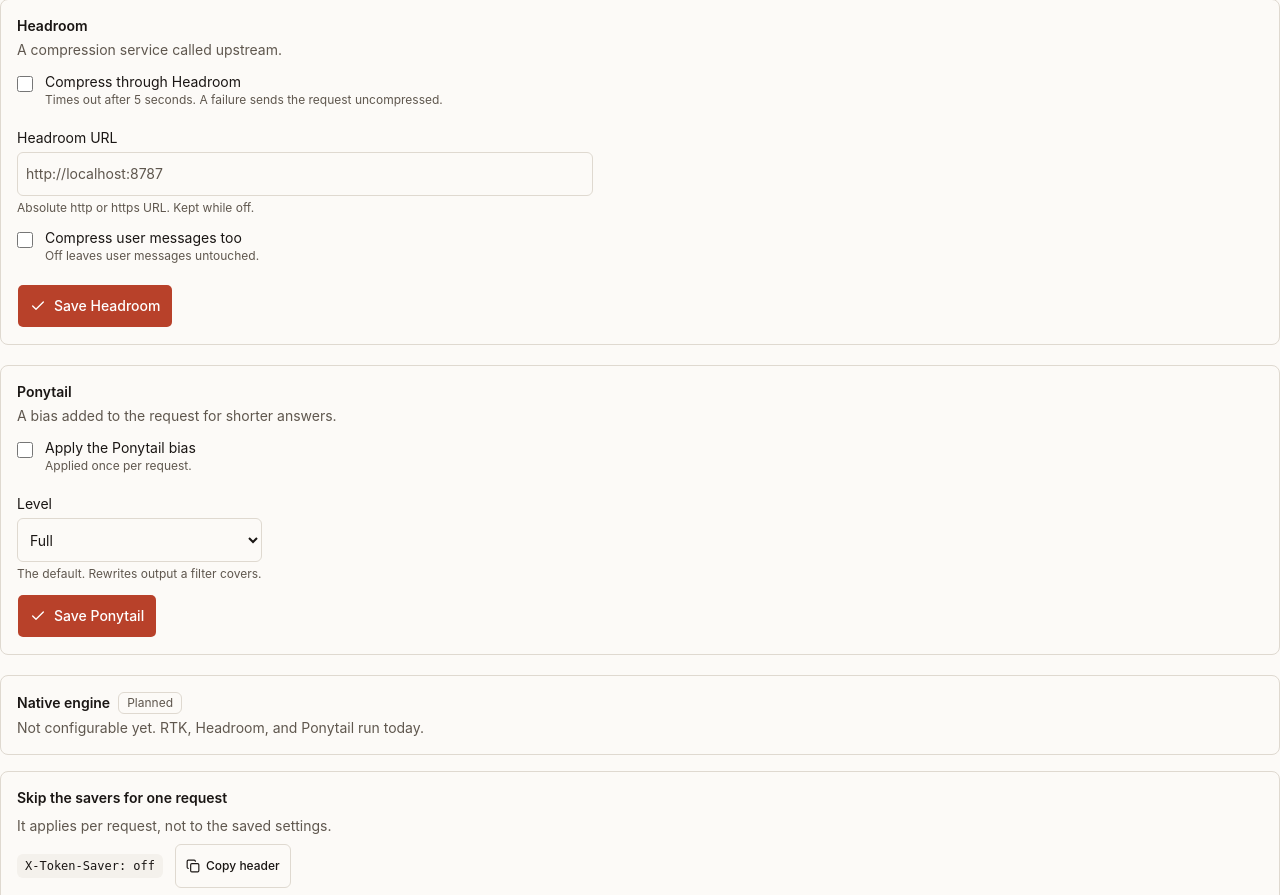
Test: TokenSaverPage editing › reports a failed Ponytail save inside the Ponytail section
The width and height of the screenshot is (1280, 895).
(page scrolled)
Click the checkbox labelled "Apply the Ponytail bias Applied once per request.": (25, 450) x1=17 y1=442 x2=33 y2=458
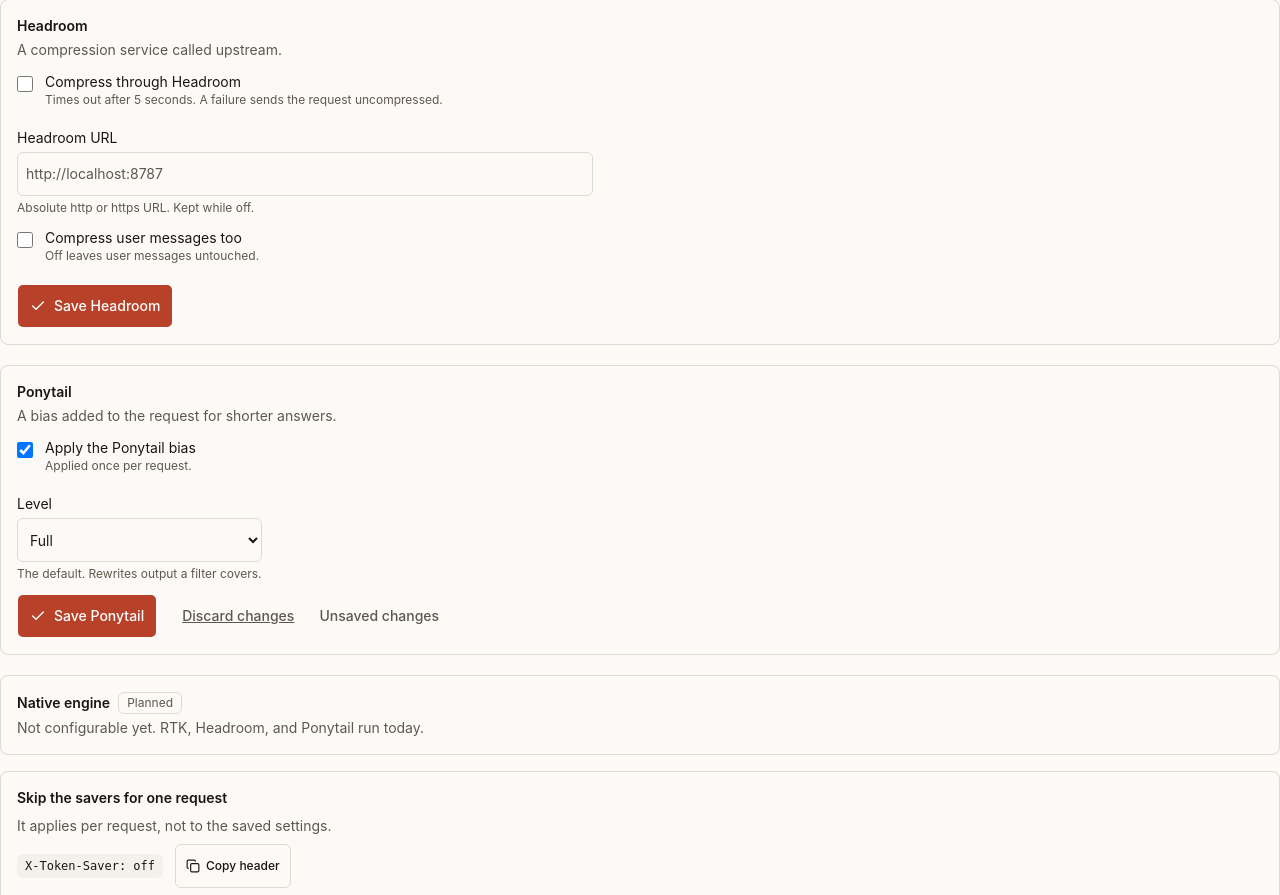
Click the button "Save Ponytail": (87, 616) x1=17 y1=594 x2=157 y2=638
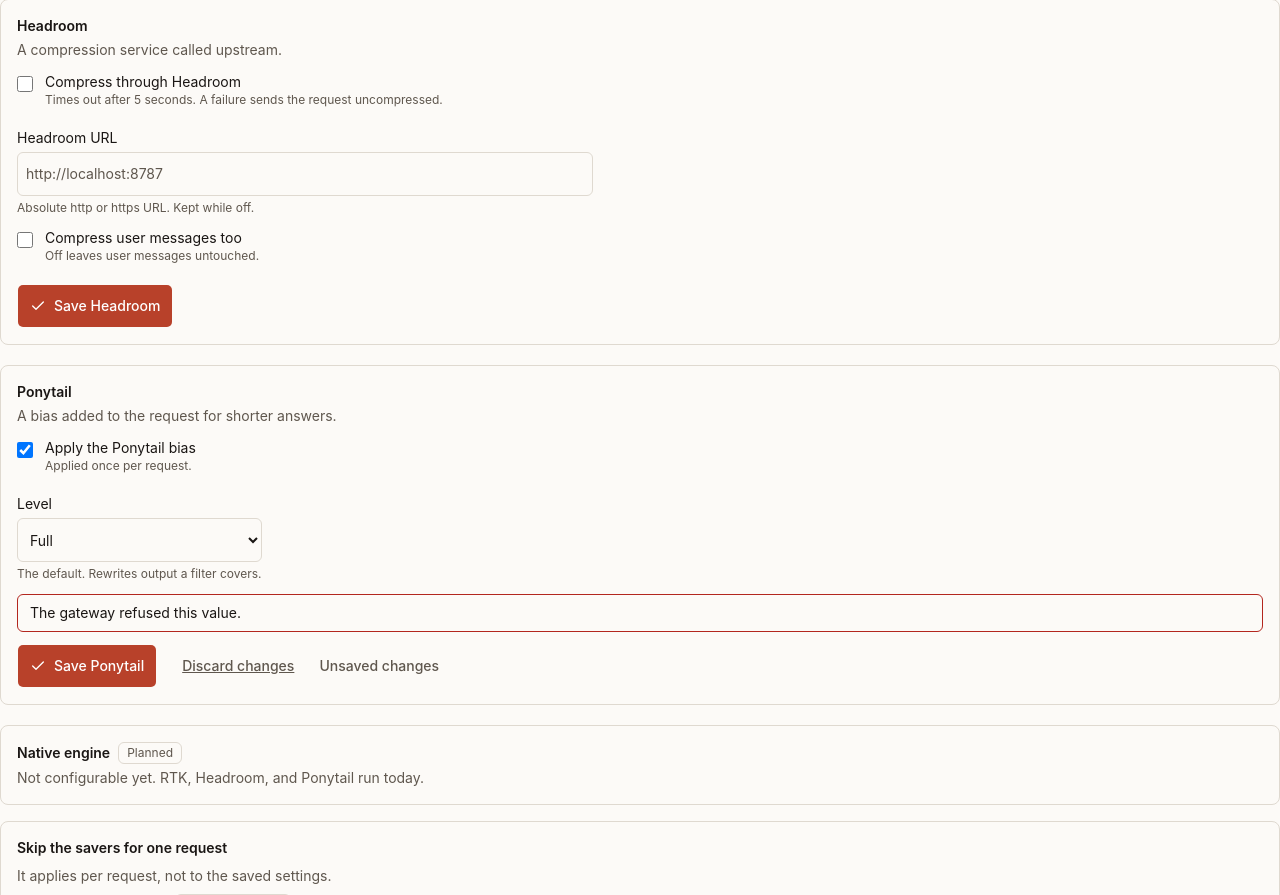
Expected: the element that starts with "Ponytail" is shown, x1=17 y1=383 x2=72 y2=400
Expected: the element that starts with "Ponytail" shows "The gateway refused this value.", x1=30 y1=604 x2=241 y2=621
